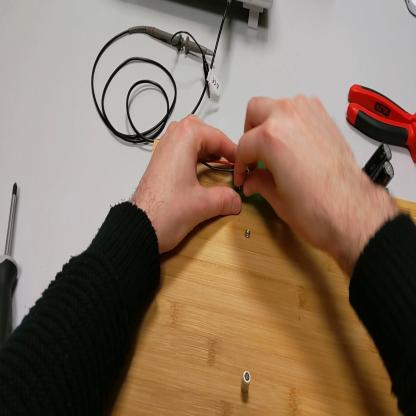hand: (235, 93, 370, 254), (136, 113, 241, 253)
high voltage board: (199, 145, 394, 205)
oscilloscope: (220, 1, 273, 28)
oscilloscope probe tip: (138, 23, 215, 59)
screwdriver-: (2, 182, 23, 352)
working area: (104, 141, 416, 416)
